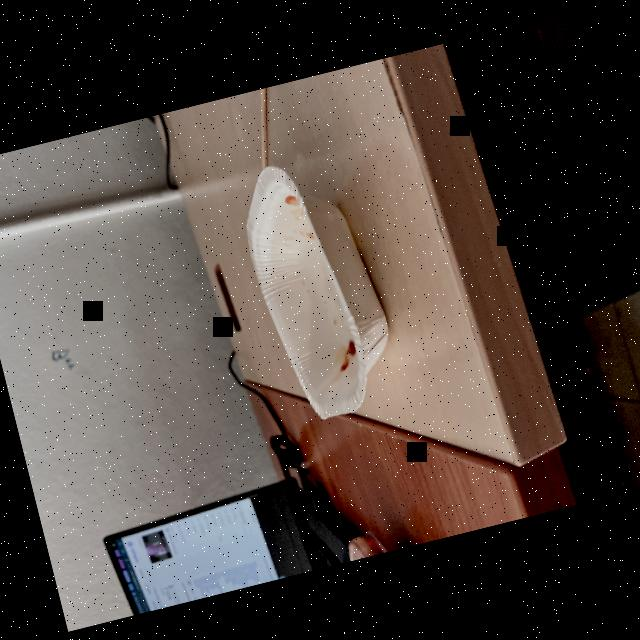stick: (226, 142, 415, 434), (237, 83, 300, 173)
